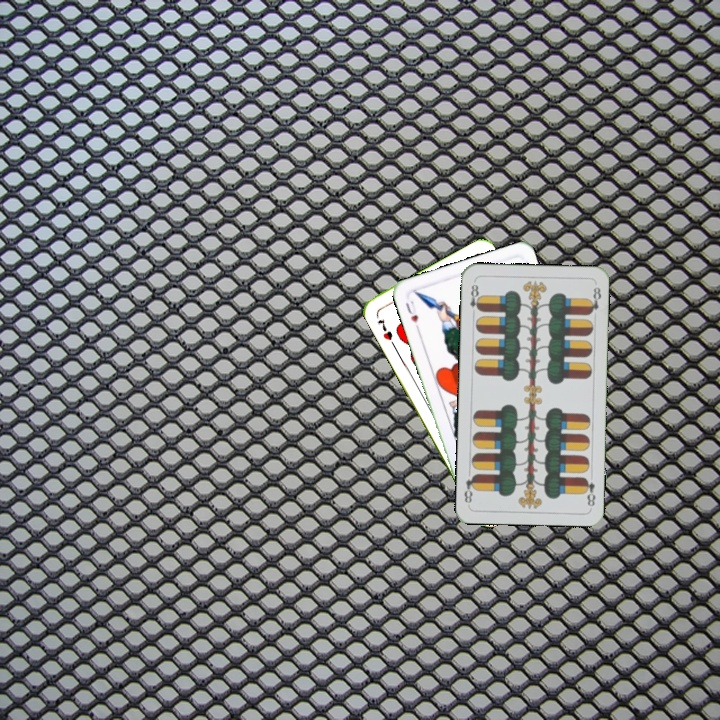E8: (466, 280, 483, 319), (580, 474, 598, 509)
H7: (373, 314, 395, 343)
HU: (401, 296, 422, 333)
